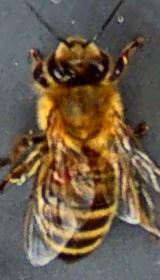varroa_mite: (40, 158, 74, 190)
